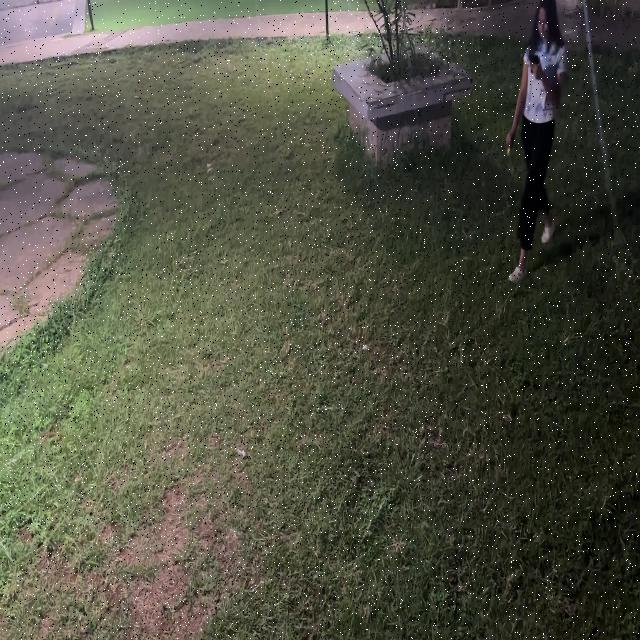garbage_dumping: (499, 135, 516, 168)
